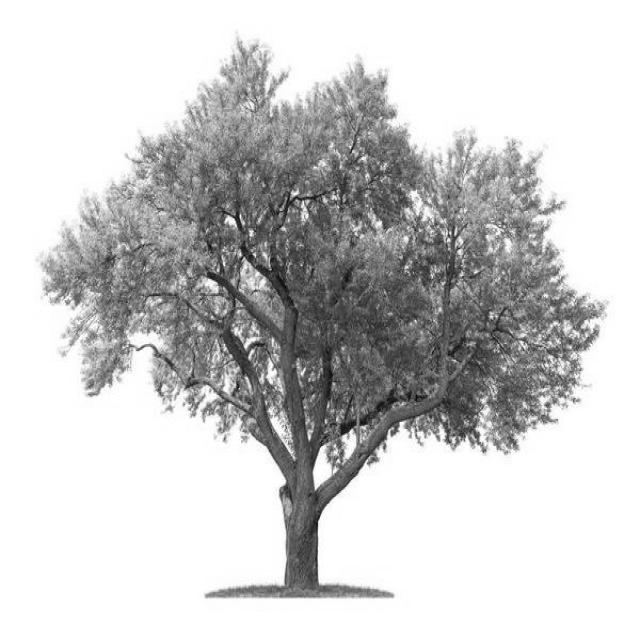Tree: (41, 41, 604, 587)
